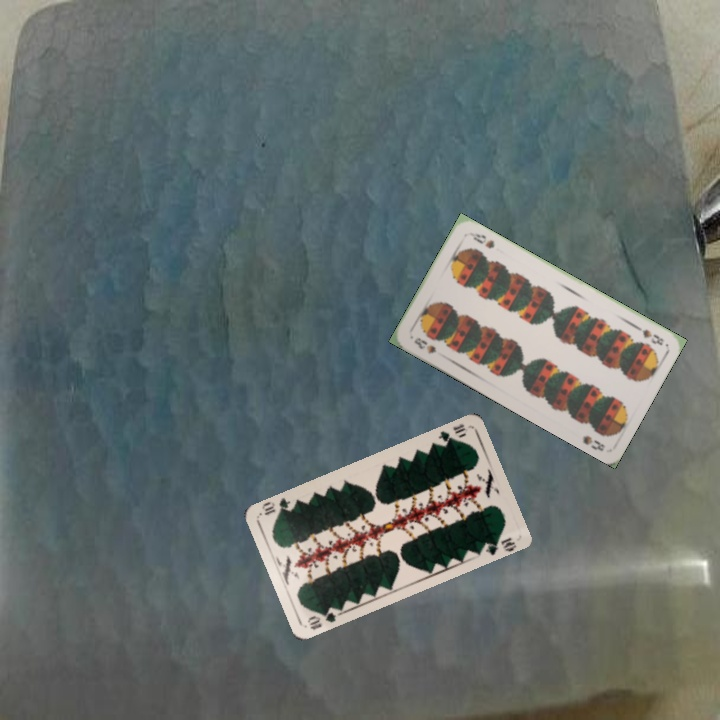G10: (303, 603, 341, 632), (432, 420, 468, 449)
S8: (630, 321, 667, 348), (410, 333, 439, 357)
